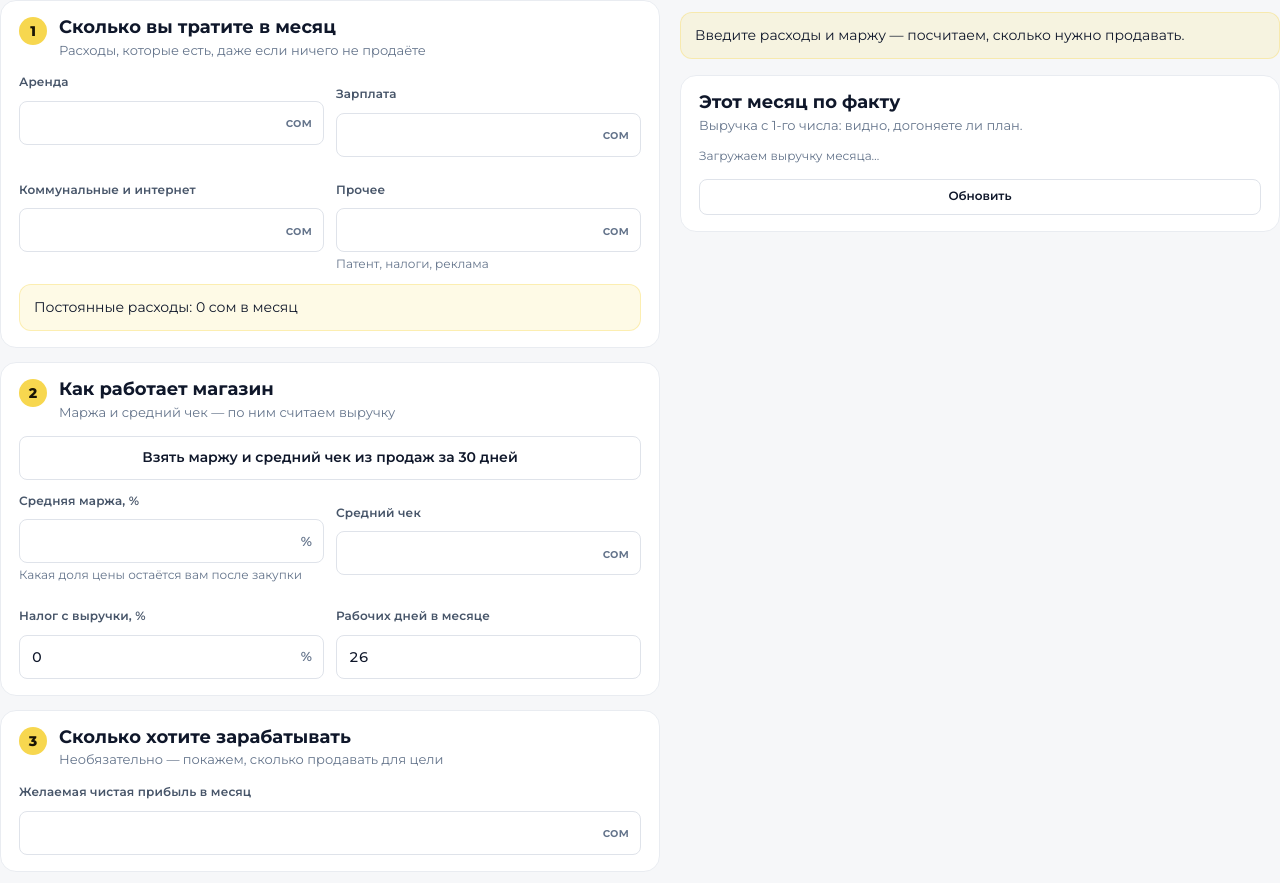
«Безубыточность» › отрицательная маржа за 30 дней — предупреждение, в поле не подставляется
Step 1. Click the button "Взять маржу и средний чек из продаж за 30 дней" → coordinates (330, 458), box [19,436,641,480]
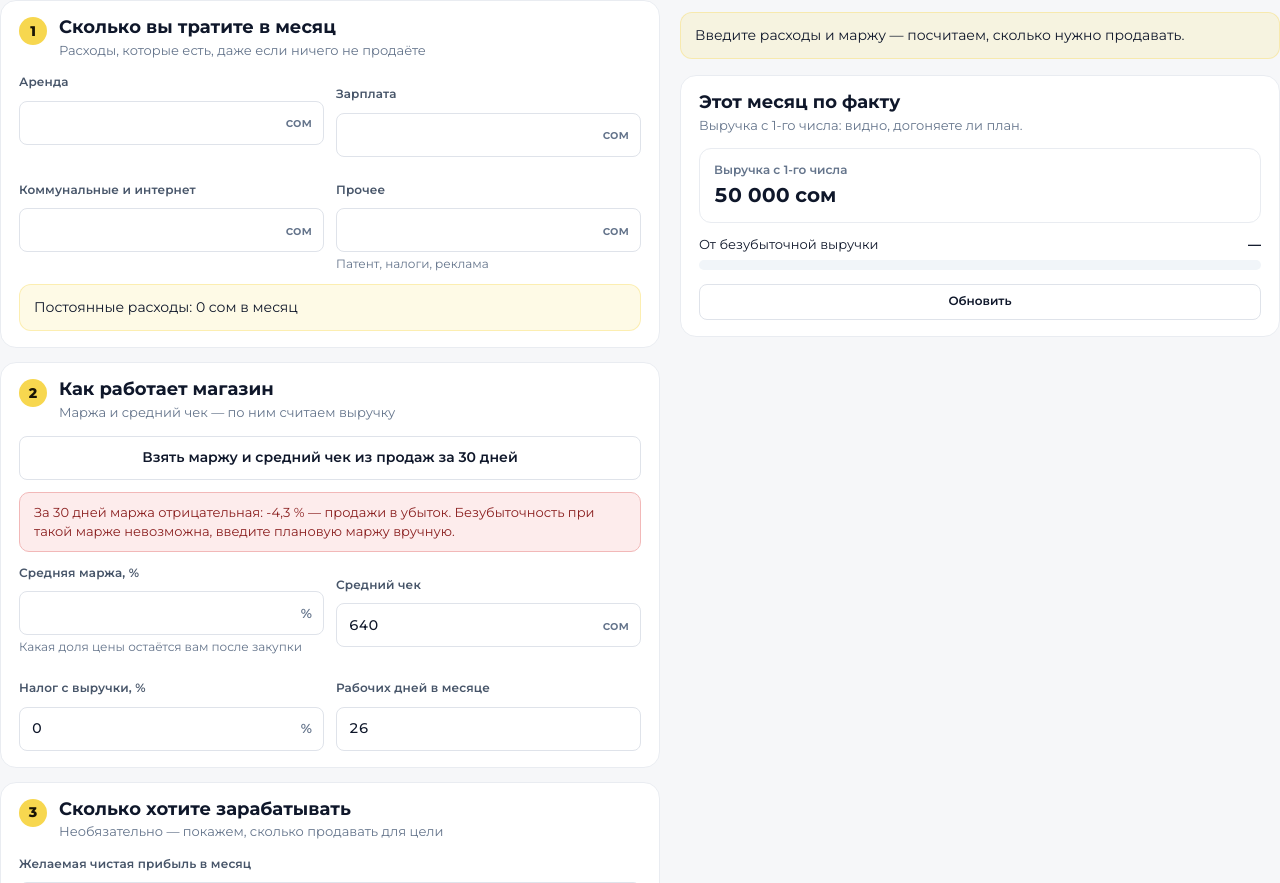
Expected: the field labelled "Средняя маржа, %" is empty, [19,591,324,635]
Expected: the field labelled "Средний чек" holds "640", [336,603,641,647]
